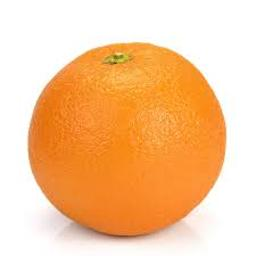Orange Fresh: (30, 40, 225, 241)
